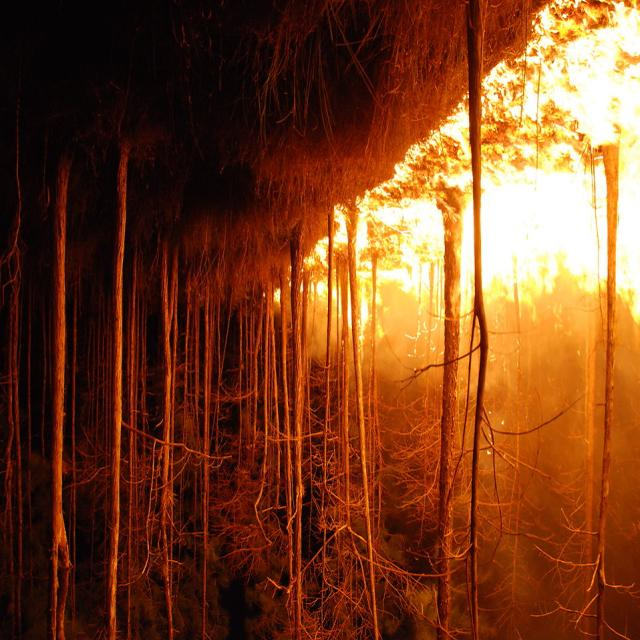fire: (270, 0, 636, 375)
